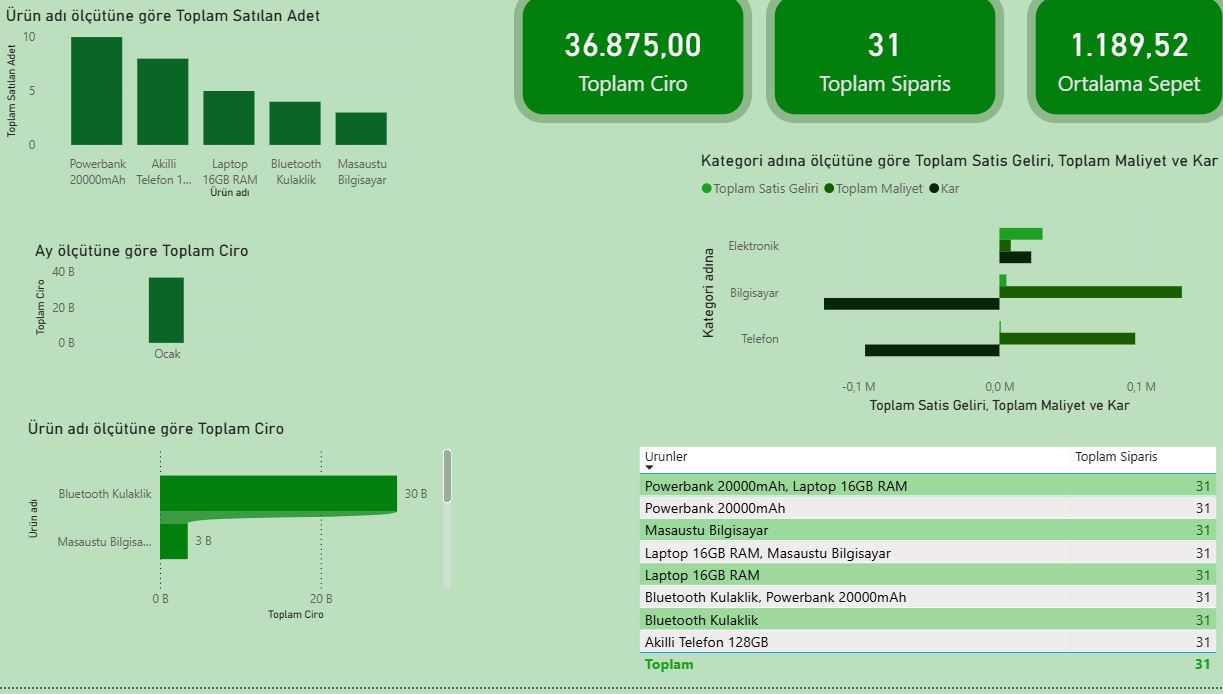

What the dashboard file says about the page in this screenshot:
{"tool":"powerbi","page":{"name":"1. sayfa","canvas":[1280,720],"ordinal":0},"visuals":[{"type":"card","fields":{"Values":["public kategoriler.Toplam Ciro"]},"box":[542.3,0,244.9,139.9],"z":1000},{"type":"card","fields":{"Values":["public kategoriler.Toplam Siparis"]},"box":[801.5,0,244.9,139.9],"z":2000},{"type":"card","fields":{"Values":["public kategoriler.Ortalama Sepet"]},"box":[1070.1,1,209.9,138.9],"z":3000},{"type":"tableEx","fields":{"Values":["Sepetler.Urunler","public kategoriler.Toplam Siparis"]},"box":[665.7,464.1,614.3,252.1],"z":7000},{"type":"tableEx","fields":{"Values":["Sepetler.Urunler","public kategoriler.Toplam Siparis"]},"box":[665.7,467.9,614.3,252.1],"z":7002},{"type":"tableEx","fields":{"Values":["public urunler.urun_adi","public kategoriler.kategori_adi","public kategoriler.Toplam Satis Geliri","public kategoriler.Toplam Maliyet","public kategoriler.Kar Marji (%)"]},"box":[14.4,514.5,614.3,205.8],"z":7003},{"type":"lineStackedColumnComboChart","fields":{"Category":["public siparisler.siparis_tarihi.Varyasyon.Tarih Hiyerarşisi.Ay"],"Y":["public kategoriler.Toplam Ciro"]},"box":[1035.1,304.6,244.9,159.5],"z":7004},{"type":"clusteredBarChart","fields":{"Category":["public kategoriler.kategori_adi"],"Y":["public kategoriler.Toplam Satis Geliri","public kategoriler.Toplam Maliyet","public kategoriler.Kar"]},"box":[14.4,222.3,494.9,276.8],"z":7006},{"type":"lineStackedColumnComboChart","fields":{"Category":["public urunler.urun_adi"],"Y":["public kategoriler.Toplam Satılan Adet"]},"box":[14.4,1,494.9,203.7],"z":7007},{"type":"barChart","fields":{"Category":["public urunler.urun_adi"],"Y":["public kategoriler.Toplam Ciro"]},"box":[533,156.4,481.5,295.3],"z":7008},{"type":"card","fields":{"Values":["public kategoriler.Kar Marji (%)"]},"box":[1070.1,152.3,209.9,138.9],"z":7009}]}

Visuals, with their boxes in screenshot pixels (x1, y1, x2, y2), scaled from the page's 1280x720 canvas onto the 1223x694 screenshot:
card - public kategoriler.Toplam Ciro: [518, 0, 752, 135]
card - public kategoriler.Toplam Siparis: [766, 0, 1000, 135]
card - public kategoriler.Ortalama Sepet: [1022, 1, 1222, 135]
tableEx - Sepetler.Urunler x public kategoriler.Toplam Siparis: [636, 447, 1222, 690]
tableEx - Sepetler.Urunler x public kategoriler.Toplam Siparis: [636, 451, 1222, 693]
tableEx - public urunler.urun_adi x public kategoriler.kategori_adi: [14, 496, 601, 693]
lineStackedColumnComboChart - public siparisler.siparis_tarihi.Varyasyon.Tarih Hiyerarşisi.Ay x public kategoriler.Toplam Ciro: [989, 294, 1222, 447]
clusteredBarChart - public kategoriler.kategori_adi x public kategoriler.Toplam Satis Geliri: [14, 214, 487, 481]
lineStackedColumnComboChart - public urunler.urun_adi x public kategoriler.Toplam Satılan Adet: [14, 1, 487, 197]
barChart - public urunler.urun_adi x public kategoriler.Toplam Ciro: [509, 151, 969, 435]
card - public kategoriler.Kar Marji (%): [1022, 147, 1222, 281]
